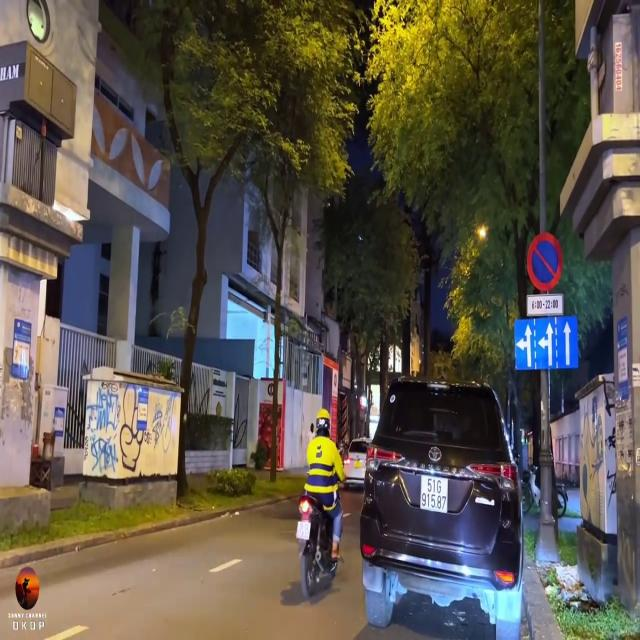bien_trang: (422, 473, 449, 514)
